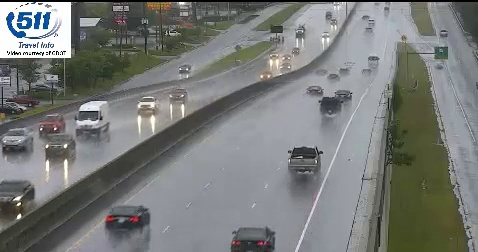car: (232, 227, 276, 251), (106, 207, 150, 230), (289, 146, 320, 174), (319, 97, 341, 115)
